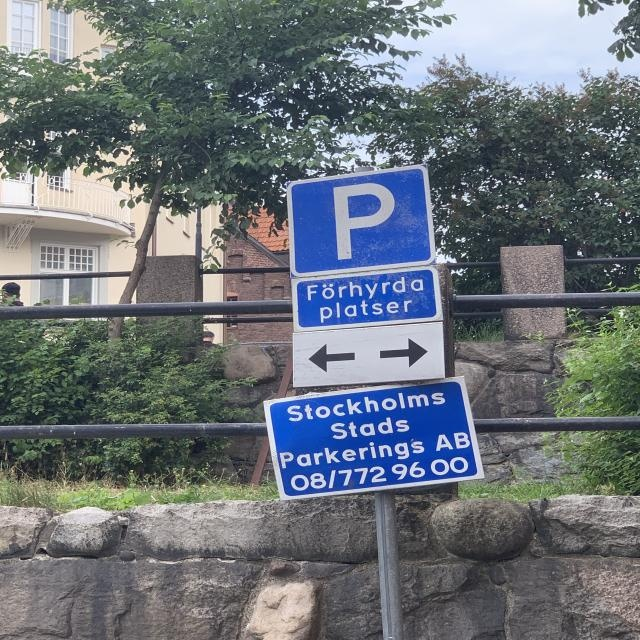P-skylt: (288, 164, 435, 277)
